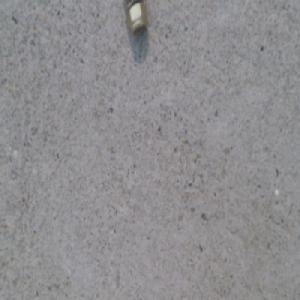BoltNutSet: (124, 1, 144, 38)
